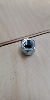Nut: (22, 39, 36, 55)
